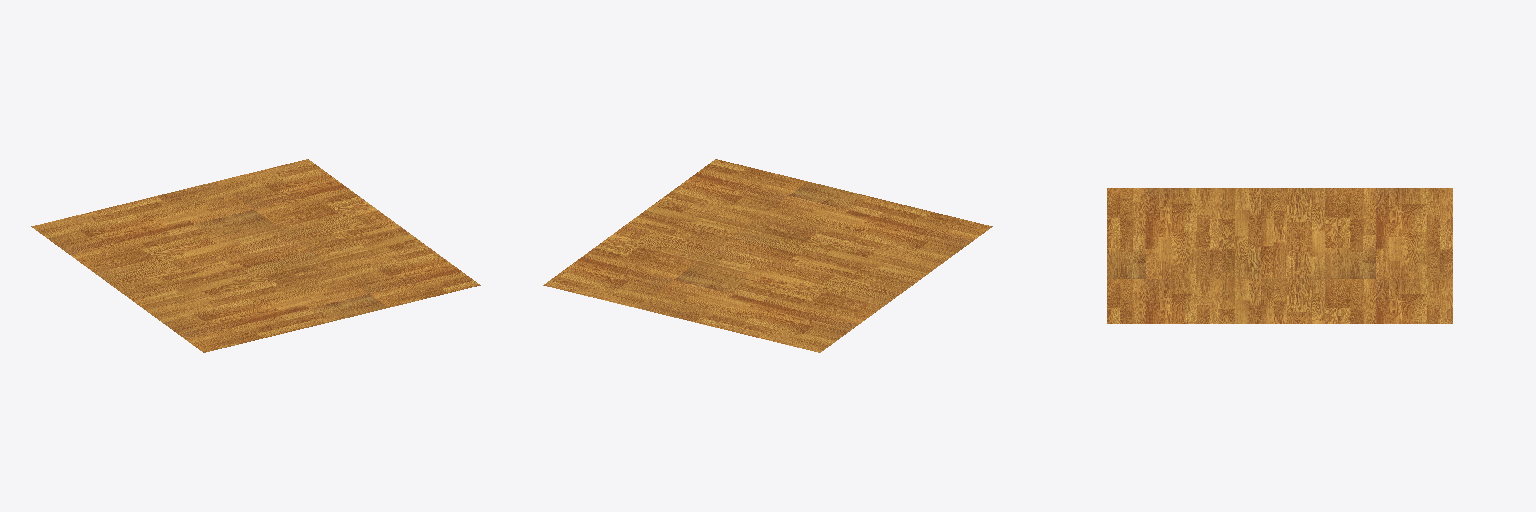
3 renders of one model, left to right at view 1: azimuth 30°, elevation 25°; view 2: azimuth 150°, elevation 25°; view 3: azimuth 270°, elevation 25°, orthographic.
Visible parts, largest first — view 1: floor; view 2: floor; view 3: floor.
Part boxes in pixels (x1,y1,x2,y2): floor: (31, 159, 480, 352); floor: (543, 159, 992, 352); floor: (1107, 188, 1452, 323).
Bounding box in the file's own units: 236 × 0 × 255.
Materials: 1 (1 with a texture image).